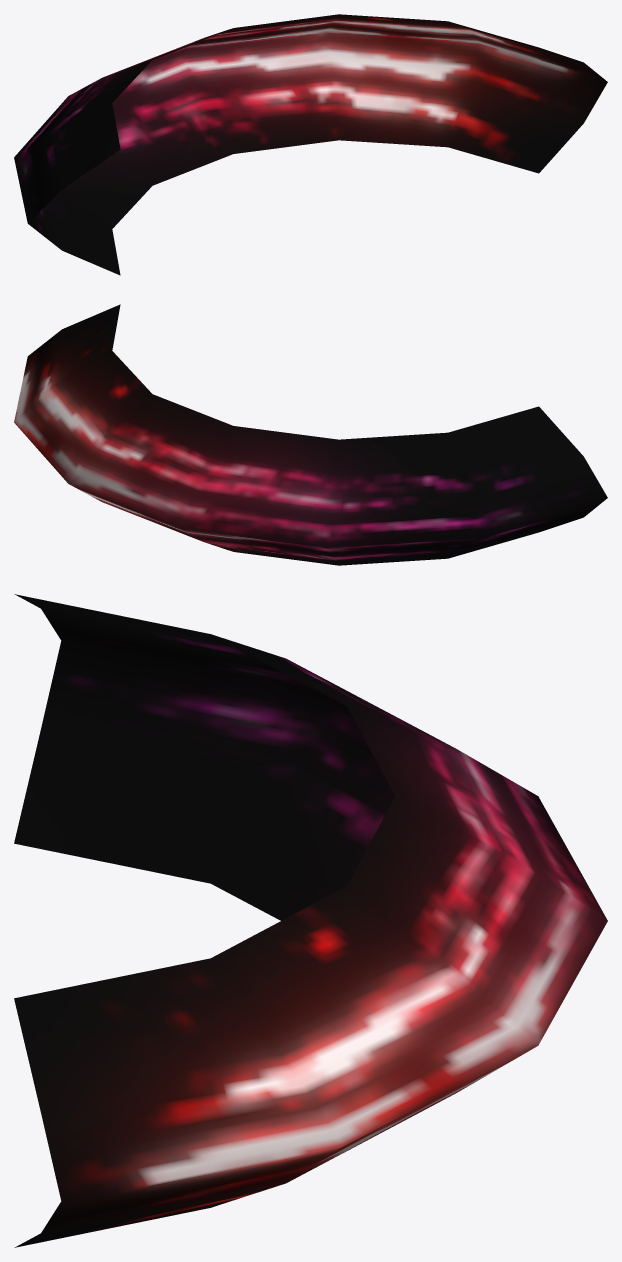
Rendered from zuaheng_001.FBX.
3 renders of one model, top to bottom at view 1: azimuth 30°, elevation 25°; view 2: azimuth 150°, elevation 25°; view 3: azimuth 270°, elevation 25°, orthographic. The views are drawn at different scales.
Parts seen in each view (by area): view 1: Sphere001; view 2: Sphere001; view 3: Sphere001.
Boxes of the visible parts, x1,y1,x2,y2 form: Sphere001: (14,14,607,275); Sphere001: (14,304,607,565); Sphere001: (14,594,607,1247).
Size of the model in its own units: 30.48 by 6.33 by 13.65.
